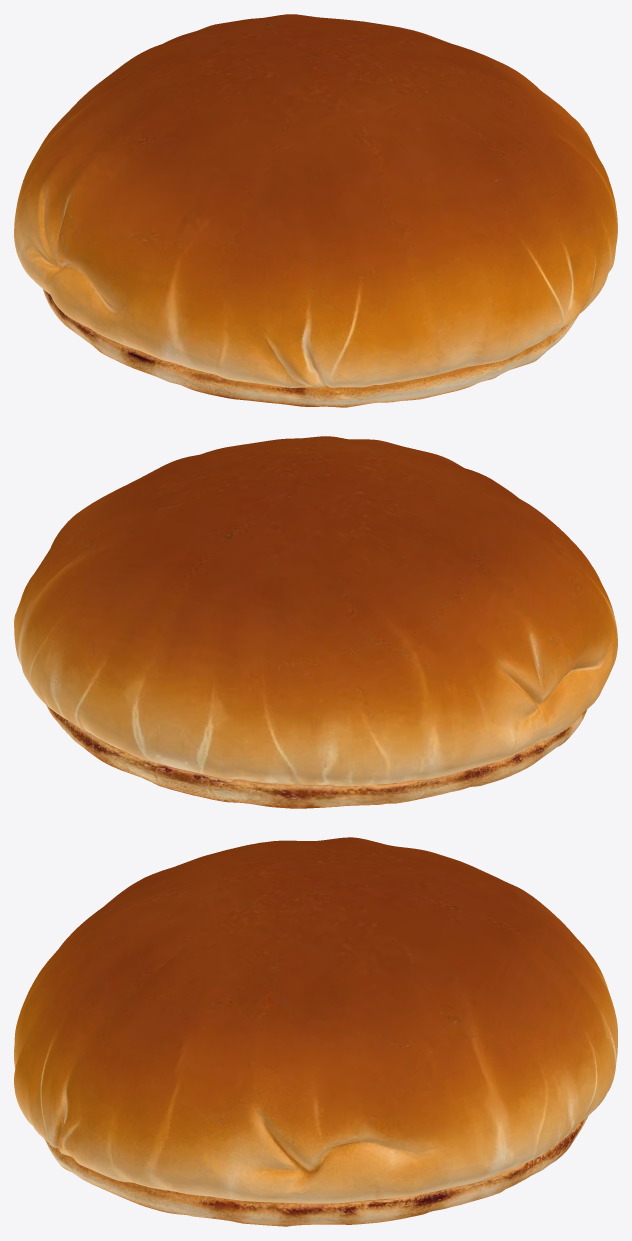
The model's file is bun_top.glb.
3 views of the same model, one above another, from view 1: azimuth 30°, elevation 25°; view 2: azimuth 150°, elevation 25°; view 3: azimuth 270°, elevation 25° (orthographic). The views are drawn at different scales.
Parts seen in each view (by area): view 1: Mesh_0; view 2: Mesh_0; view 3: Mesh_0.
Part boxes in pixels (left/top/right/bottom): Mesh_0: left=14, top=14, right=617, bottom=407; Mesh_0: left=14, top=436, right=617, bottom=808; Mesh_0: left=14, top=837, right=617, bottom=1226.
Bounding box in the file's own units: 1.9 × 0.8361 × 1.87.
Materials: 1 (1 with a texture image).
